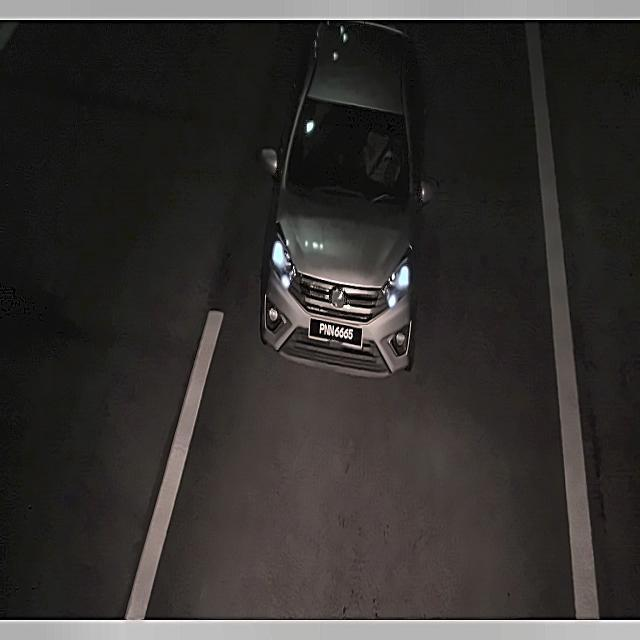car: (309, 319, 362, 348)
